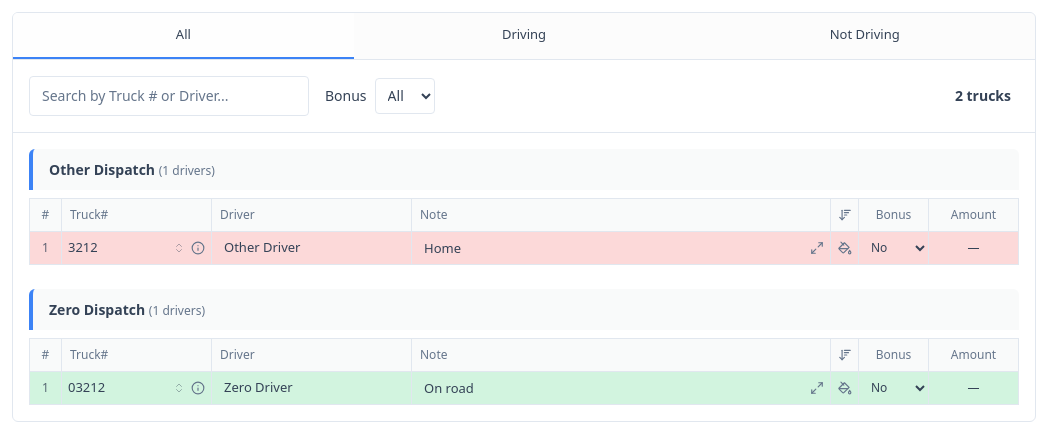
Test: filters driving statuses and updates the visible truck count with search
Expected: the text "2 trucks" is shown, [955,85,1019,106]
Step 1. Click the button "Driving" → (524, 36), box [354,13,694,58]
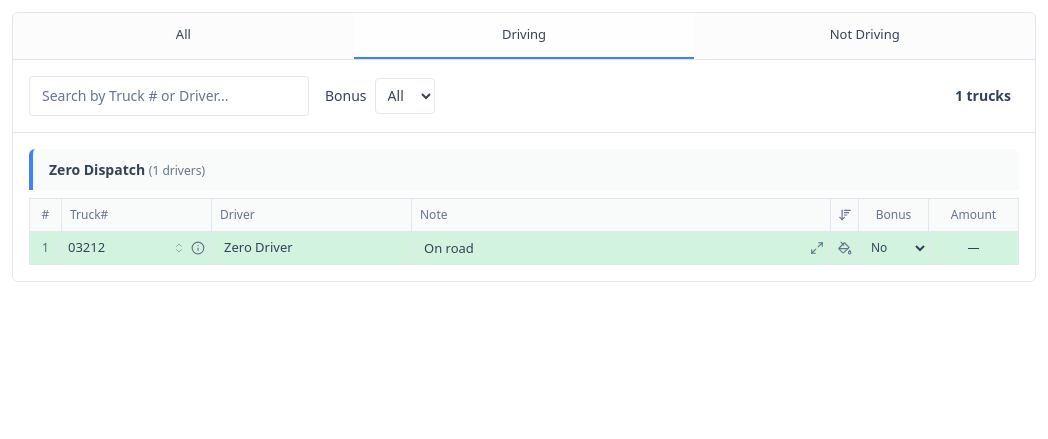
Expected: the field named "Note for truck 03212" is shown, [412,232,830,264]
Now the text "1 trucks" is shown, box [955,85,1019,106]
Step 2. Type "missing" into the field named "Search holiday notes" → (169, 96), box [29,76,309,116]
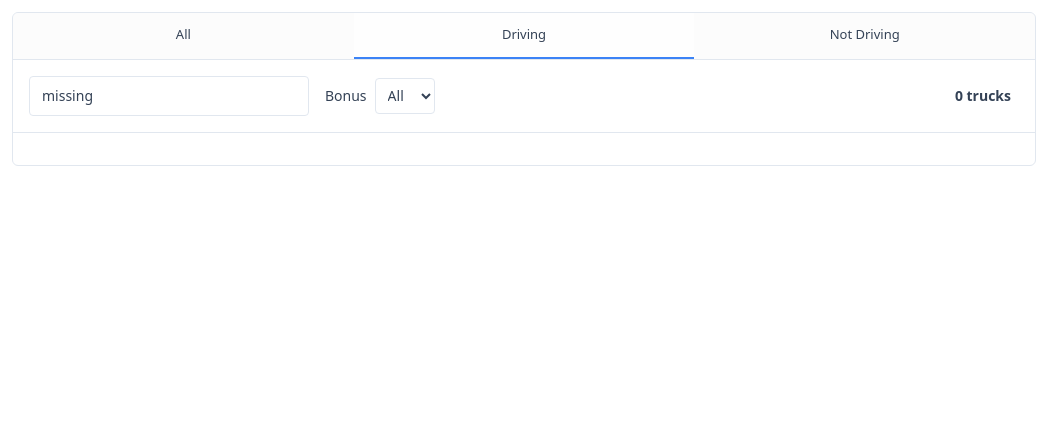
Now the text "0 trucks" is shown, box [955,85,1019,106]
